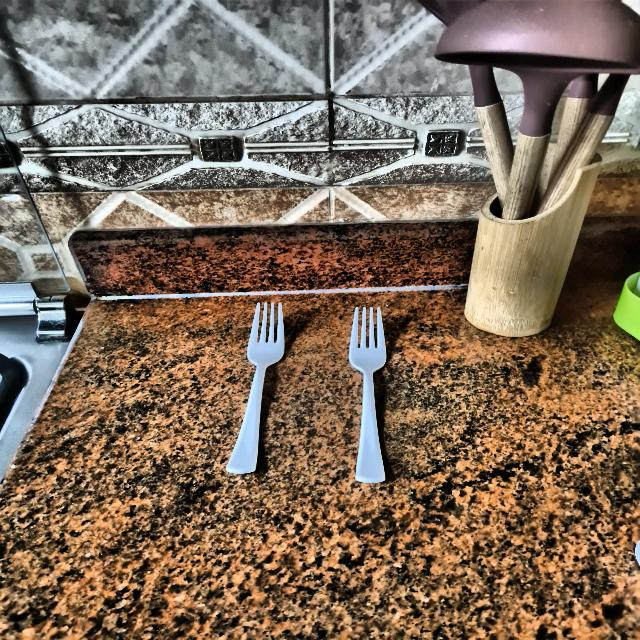plastic utensil: (220, 298, 293, 476), (346, 304, 402, 483)
